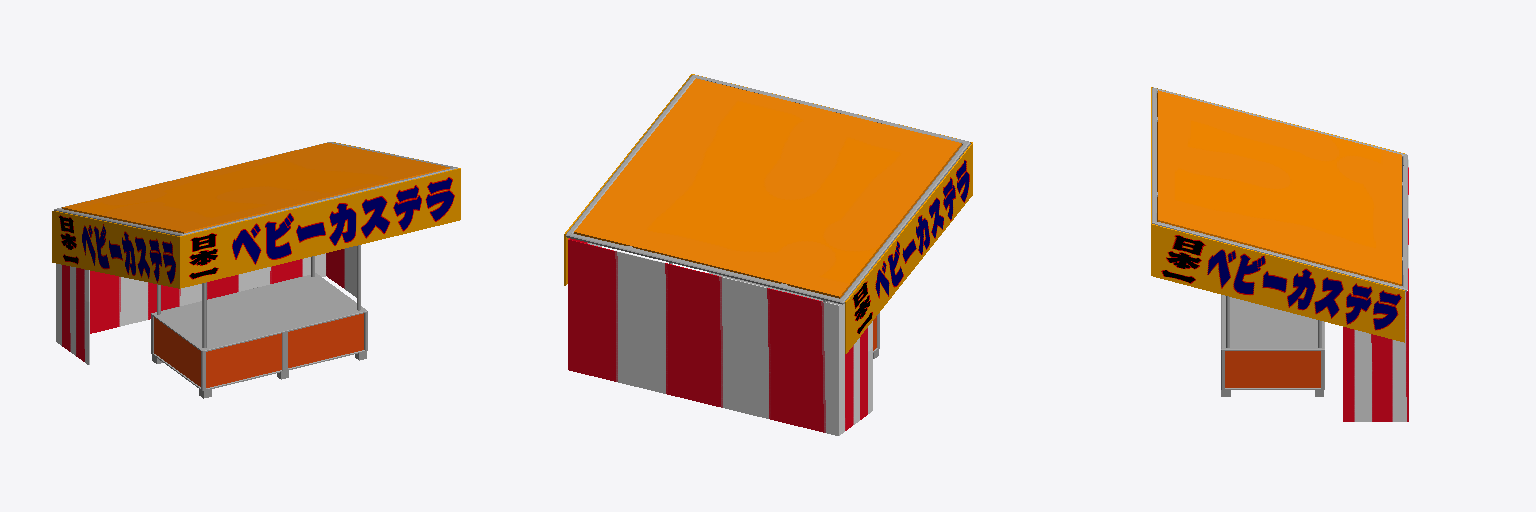
3 views of the same model, side by side, from view 1: azimuth 30°, elevation 25°; view 2: azimuth 150°, elevation 25°; view 3: azimuth 270°, elevation 25° (orthographic).
Visible parts, largest first — view 1: Plane.006; view 2: Plane.006; view 3: Plane.006.
Part boxes in pixels (bbox=[...]): Plane.006: bbox=[52, 142, 460, 398]; Plane.006: bbox=[564, 74, 972, 435]; Plane.006: bbox=[1151, 87, 1408, 421].
Size of the model in its own units: 367 by 252 by 291.
Materials: 1 (1 with a texture image).